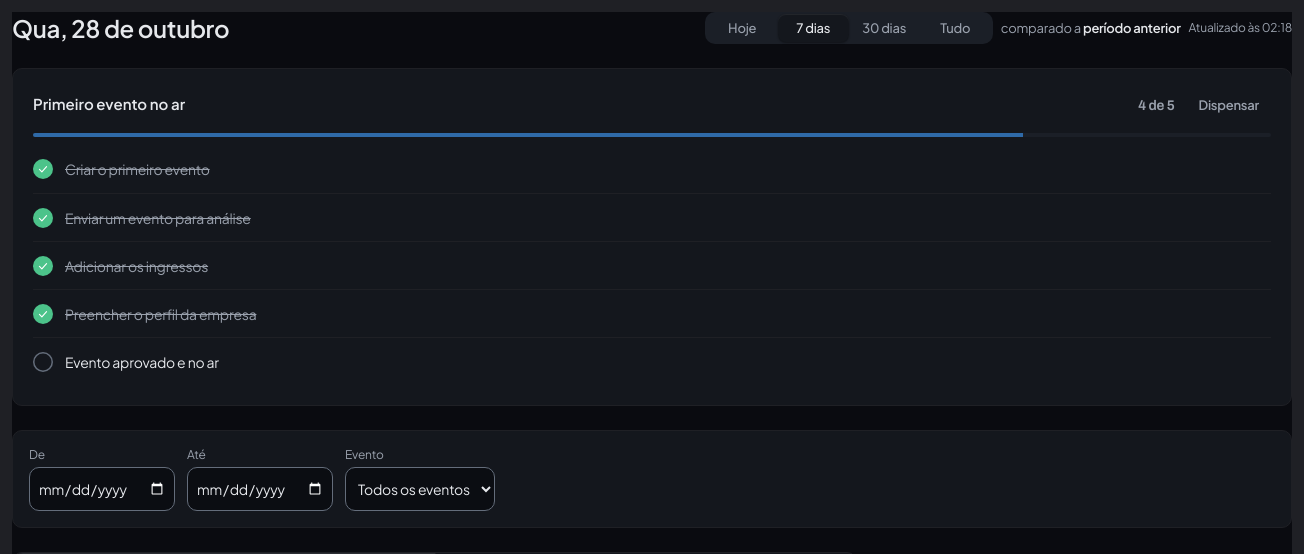
Test: Início do produtor › "de" depois de "até": mensagem e nenhuma consulta com o filtro
Expected: the element named "Filtro de vendas" is shown, [12,430,1292,528]
Type "2026-10-05" into the date field labelled "De" at x=102, y=489, box [29,467,175,511]
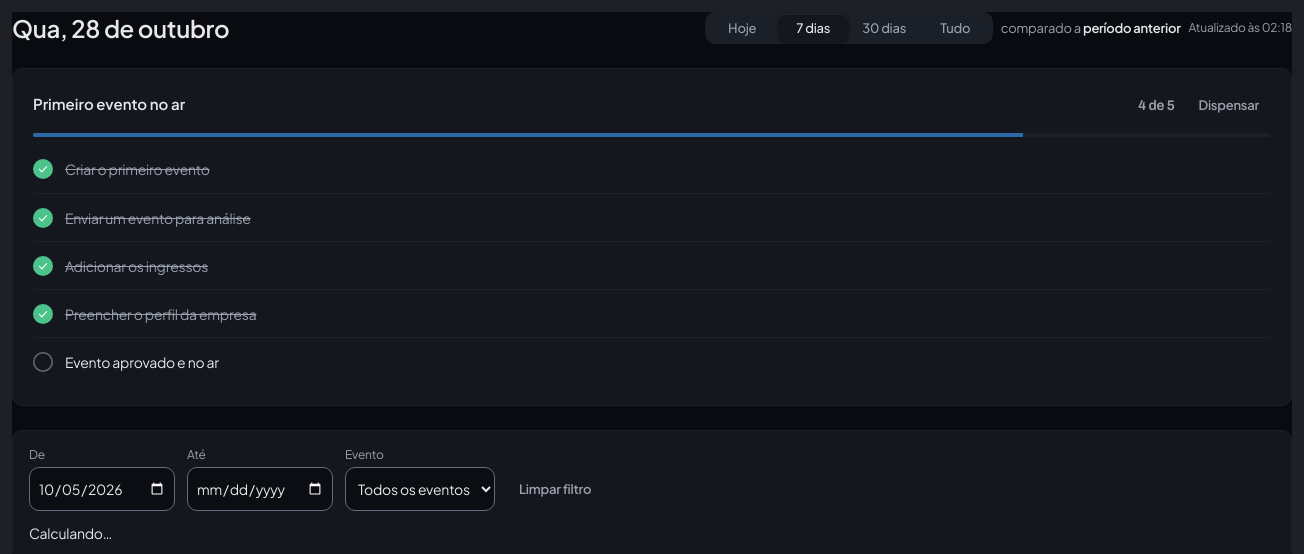
Type "2026-10-01" into the date field labelled "Até" at x=260, y=489, box [187,467,333,511]
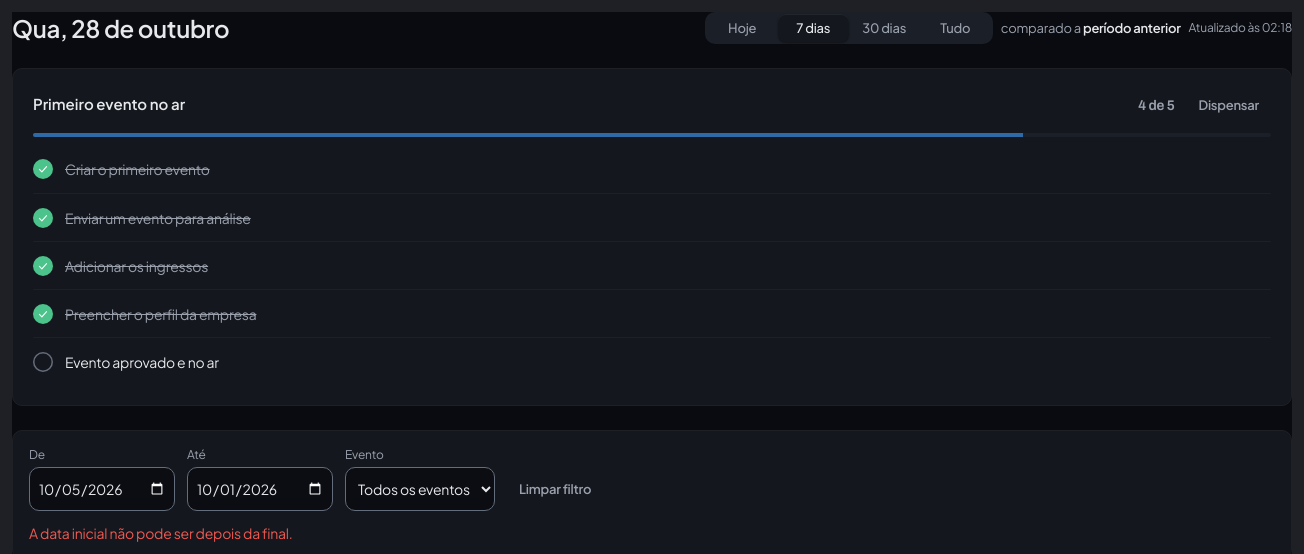
Now the text "A data inicial não pode ser depois da final." is shown, box [29,524,292,542]
